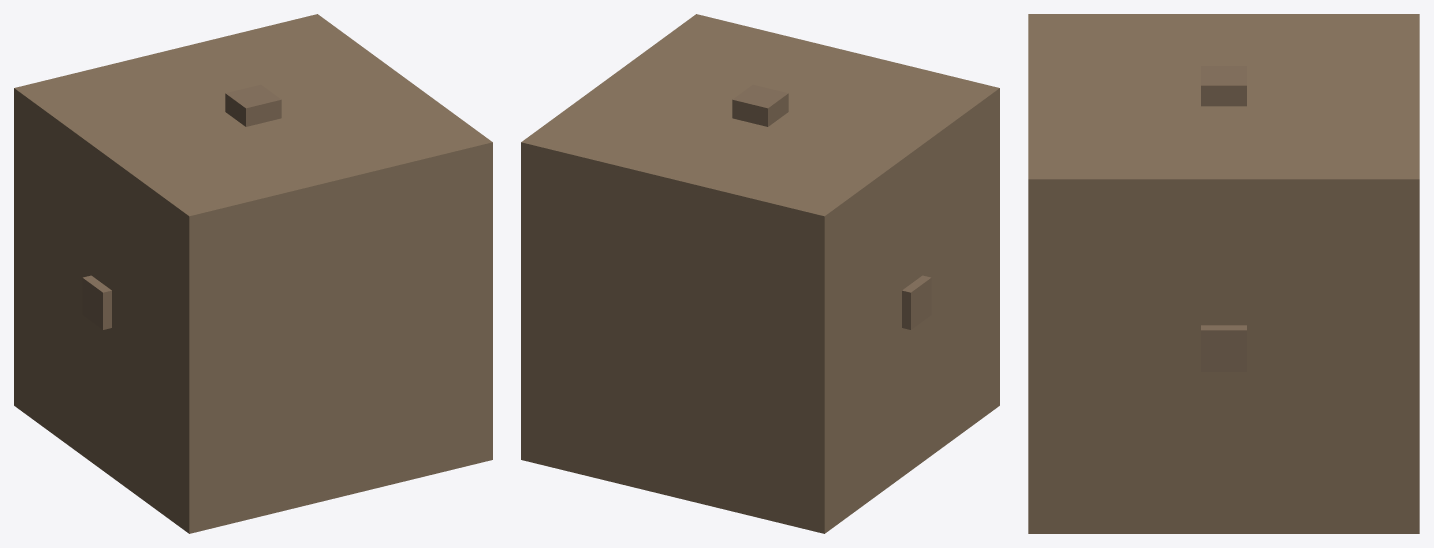
File: crate.fbx
3 views of the same model, side by side, from view 1: azimuth 30°, elevation 25°; view 2: azimuth 150°, elevation 25°; view 3: azimuth 270°, elevation 25° (orthographic). The views are drawn at different scales.
Visible parts, largest first — view 1: crate1; view 2: crate1; view 3: crate1.
Boxes of the visible parts, x1,y1,x2,y2 form: crate1: (14, 14, 492, 533); crate1: (521, 14, 999, 533); crate1: (1028, 14, 1419, 533).
Size of the model in its own units: 90 by 90 by 85.
